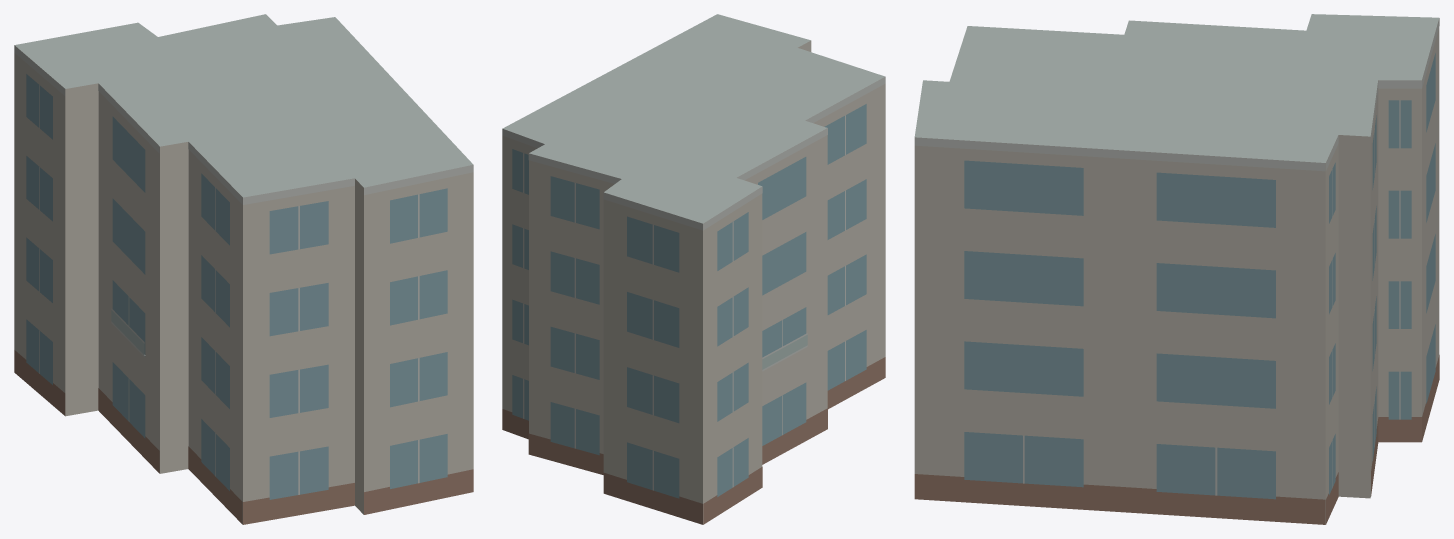
Rendered from survey-upis-32912209.glb.
3 views of the same model, side by side, from view 1: azimuth 30°, elevation 25°; view 2: azimuth 150°, elevation 25°; view 3: azimuth 270°, elevation 25° (orthographic). The views are drawn at different scales.
Visible parts, largest first — view 1: survey-upis-32912209.tmp; view 2: survey-upis-32912209.tmp; view 3: survey-upis-32912209.tmp.
Boxes of the visible parts, x1,y1,x2,y2 form: survey-upis-32912209.tmp: [14, 14, 473, 524]; survey-upis-32912209.tmp: [502, 14, 885, 524]; survey-upis-32912209.tmp: [914, 14, 1439, 524].
Bounding box in the file's own units: 9.37 × 10.6 × 13.95.
